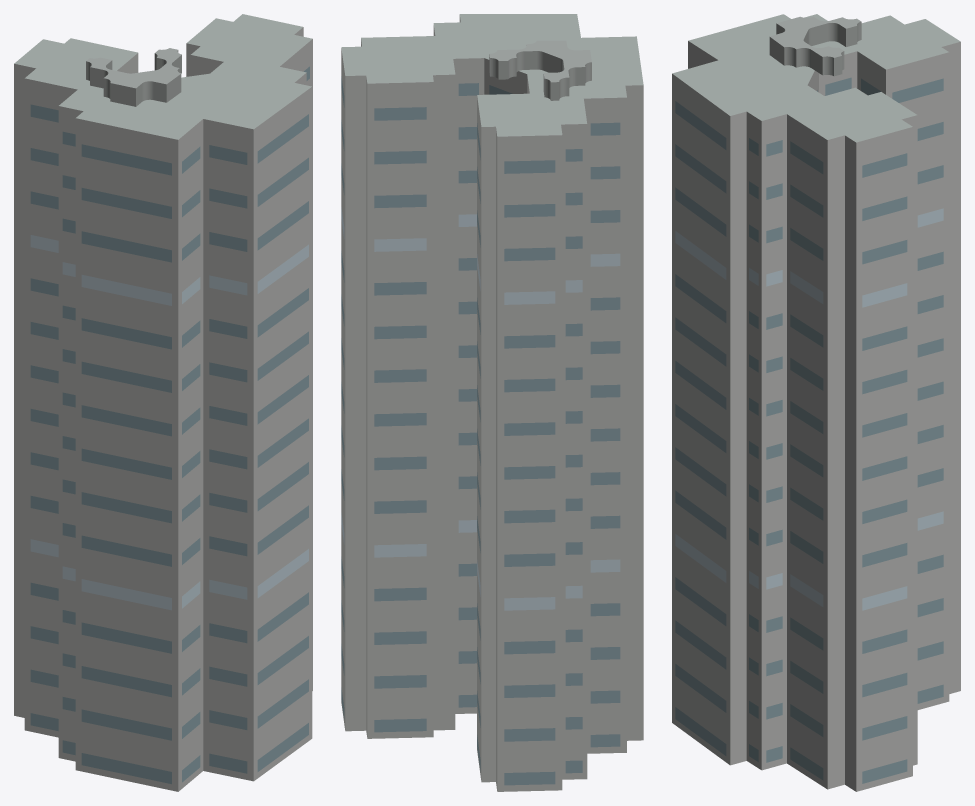
Rendered from fallback-mapo-raemian-prugio-404.glb.
The picture shows the model from 3 angles, left to right: view 1: azimuth 30°, elevation 25°; view 2: azimuth 150°, elevation 25°; view 3: azimuth 270°, elevation 25°; orthographic projection.
Visible parts, largest first — view 1: fallback-mapo-raemian-prugio-404; view 2: fallback-mapo-raemian-prugio-404; view 3: fallback-mapo-raemian-prugio-404.
Part boxes in pixels (box(x1,y1,x2,y2)): fallback-mapo-raemian-prugio-404: box(14, 14, 312, 791); fallback-mapo-raemian-prugio-404: box(341, 14, 643, 791); fallback-mapo-raemian-prugio-404: box(672, 14, 960, 791).
Size of the model in its own units: 35.94 by 87 by 34.11.
